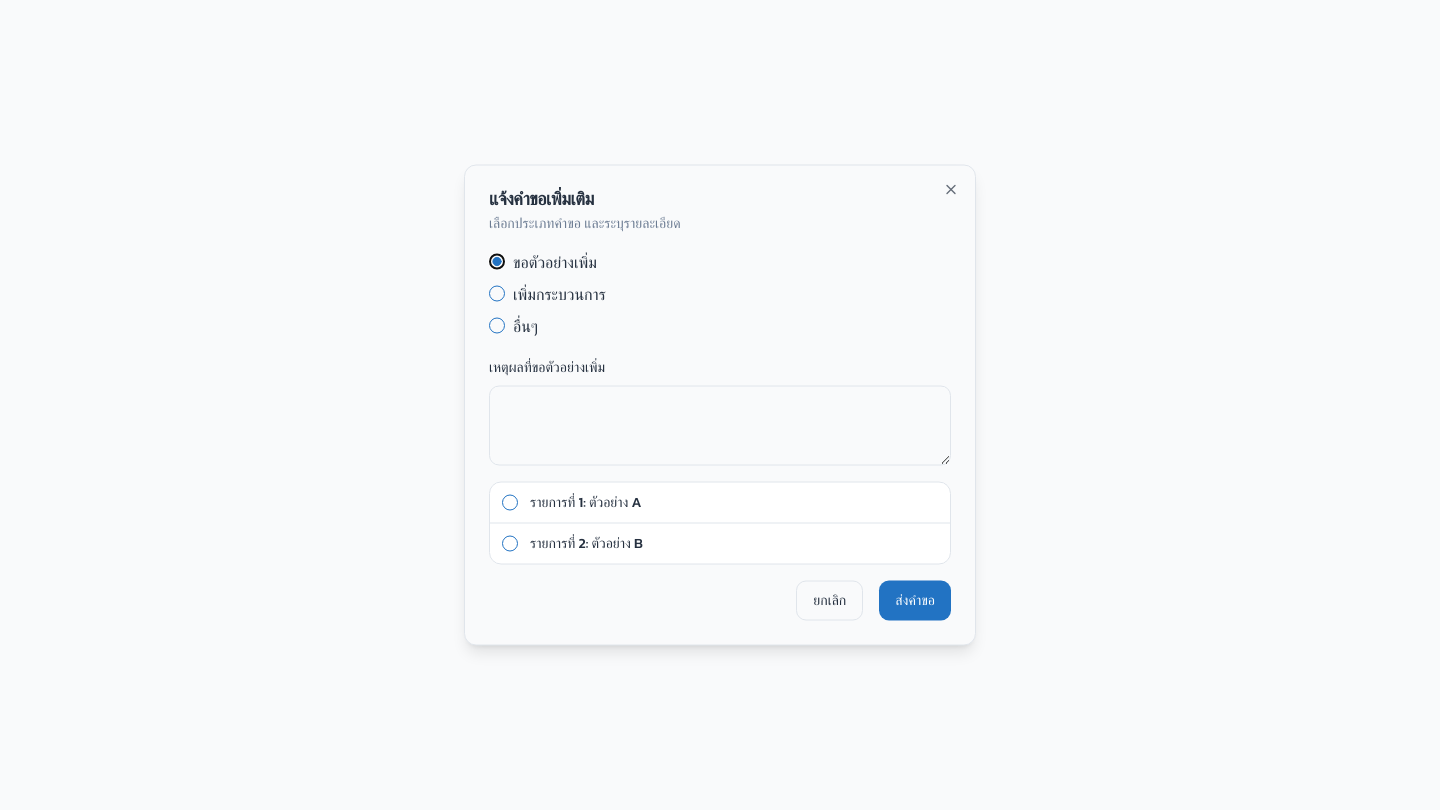
Test: AdditionalSampleRequestDialog › requires a reason, selection and valid weight before posting
The width and height of the screenshot is (1440, 810).
Click the button "ส่งคำขอ" at (915, 600), box top-left (879, 580), bottom-right (951, 620)
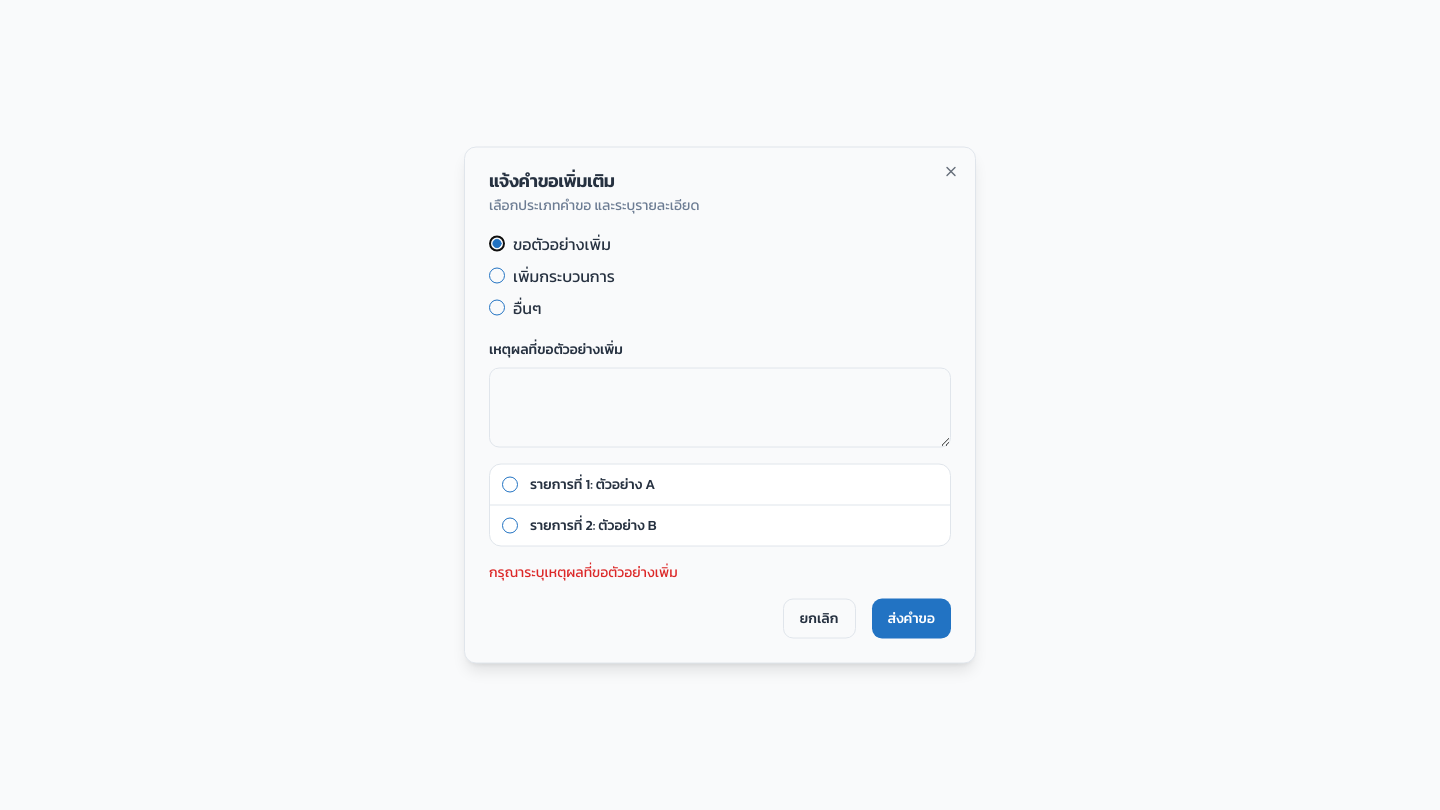
Check: the message shows "กรุณาระบุเหตุผล", box top-left (489, 562), bottom-right (678, 582)
Type " ค่าสูงกว่าเกณฑ์ " into the text box labelled "เหตุผลที่ขอตัวอย่างเพิ่ม" at (720, 408), box top-left (489, 368), bottom-right (951, 448)
Click the button "ส่งคำขอ" at (911, 618), box top-left (872, 598), bottom-right (951, 638)
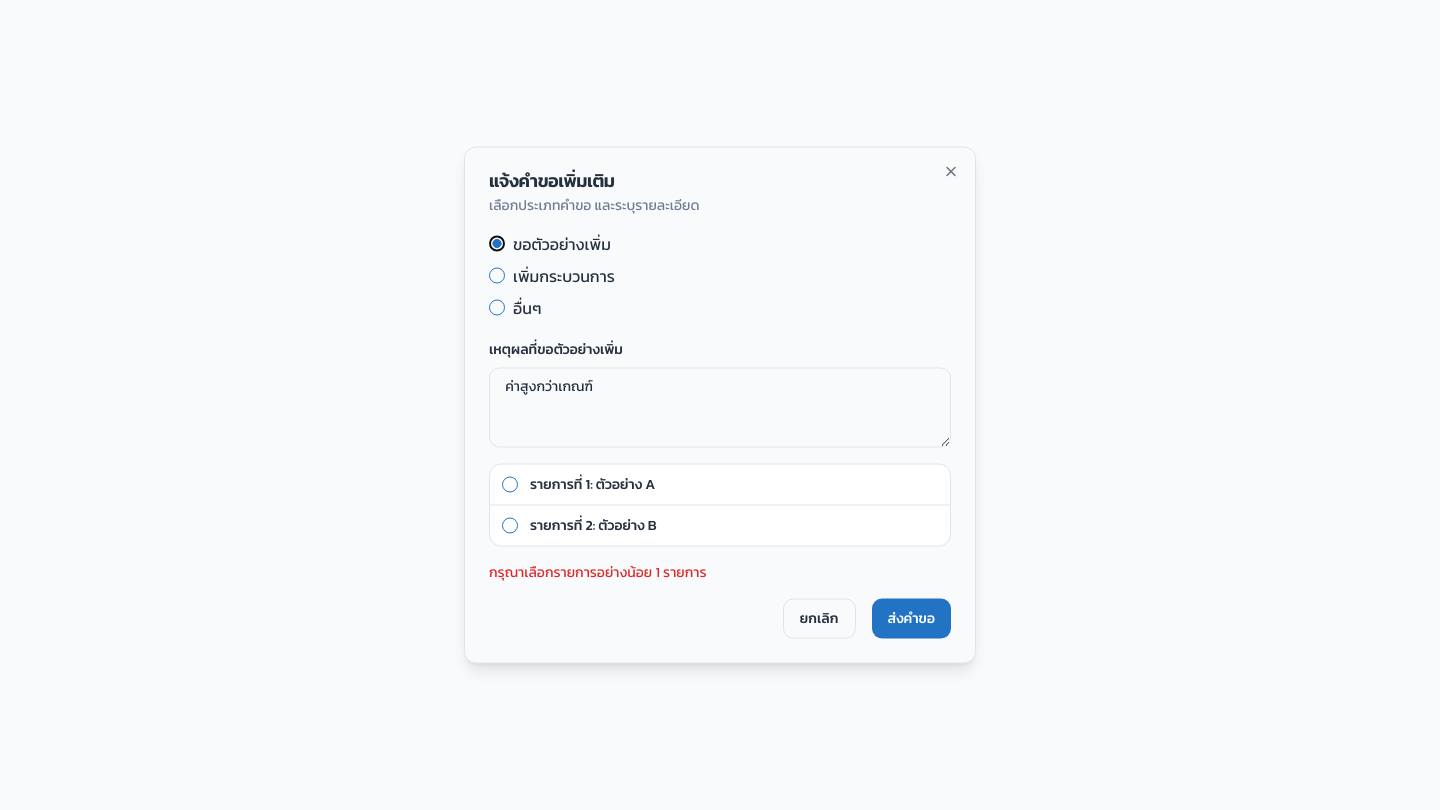
Check: the message shows "เลือกรายการ", box top-left (489, 562), bottom-right (706, 582)
Click the checkbox named "ตัวอย่าง A" in the row of "ตัวอย่าง A" at (510, 484), box top-left (502, 476), bottom-right (518, 492)
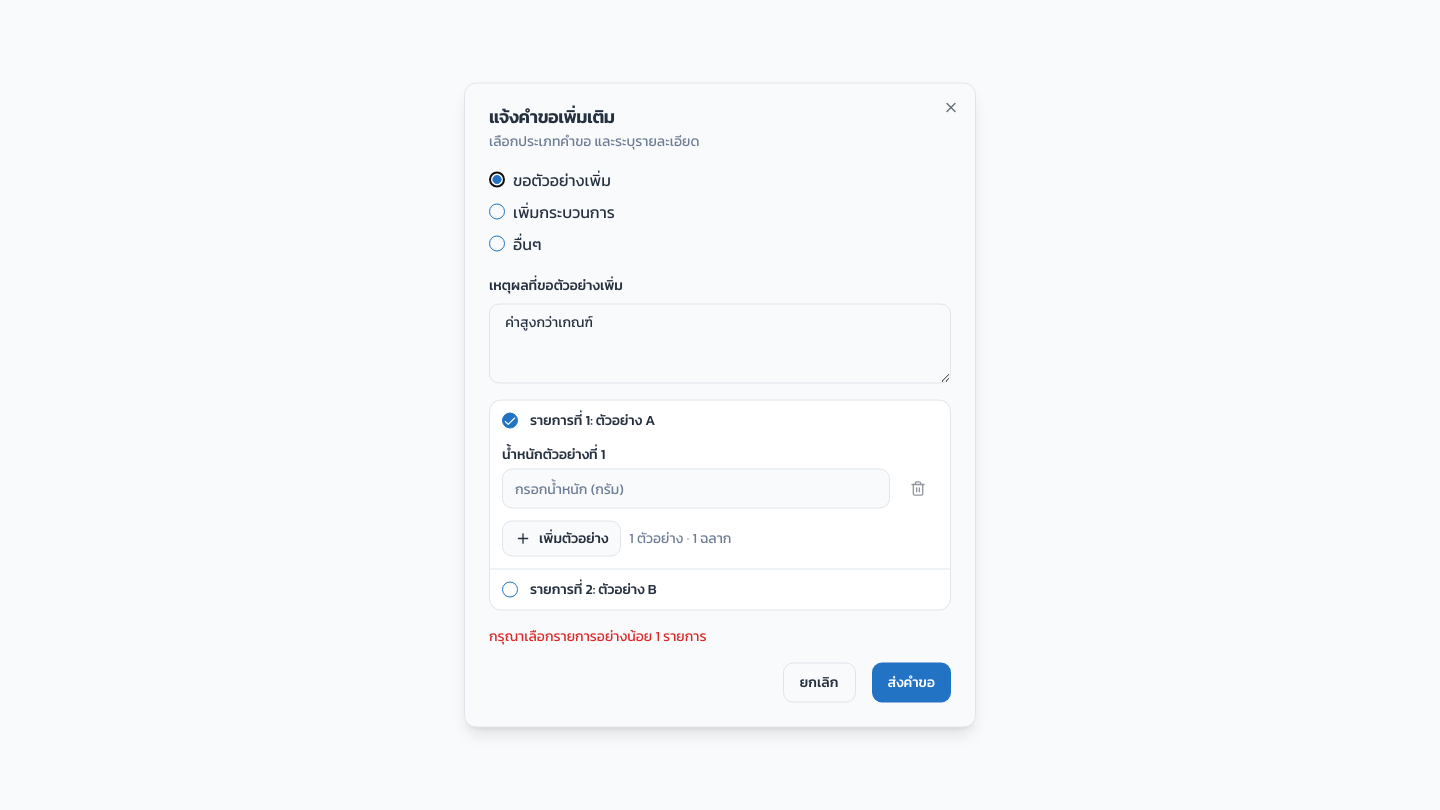
Type "100" into the number field named "น้ำหนักตัวอย่างที่ 1 รายการที่ 1" at (696, 488), box top-left (502, 468), bottom-right (890, 508)
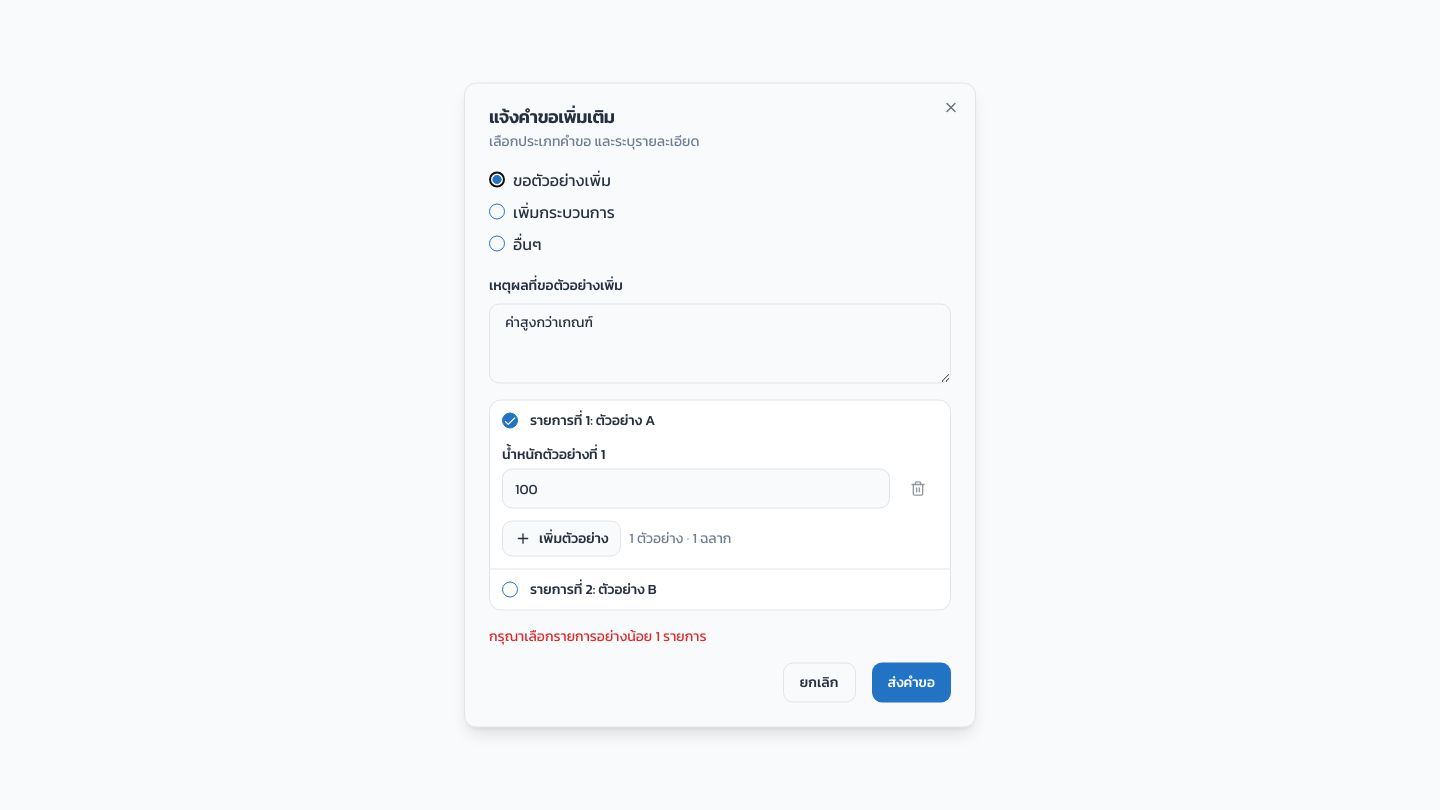
Clear the number field named "น้ำหนักตัวอย่างที่ 1 รายการที่ 1" at (696, 488), box top-left (502, 468), bottom-right (890, 508)
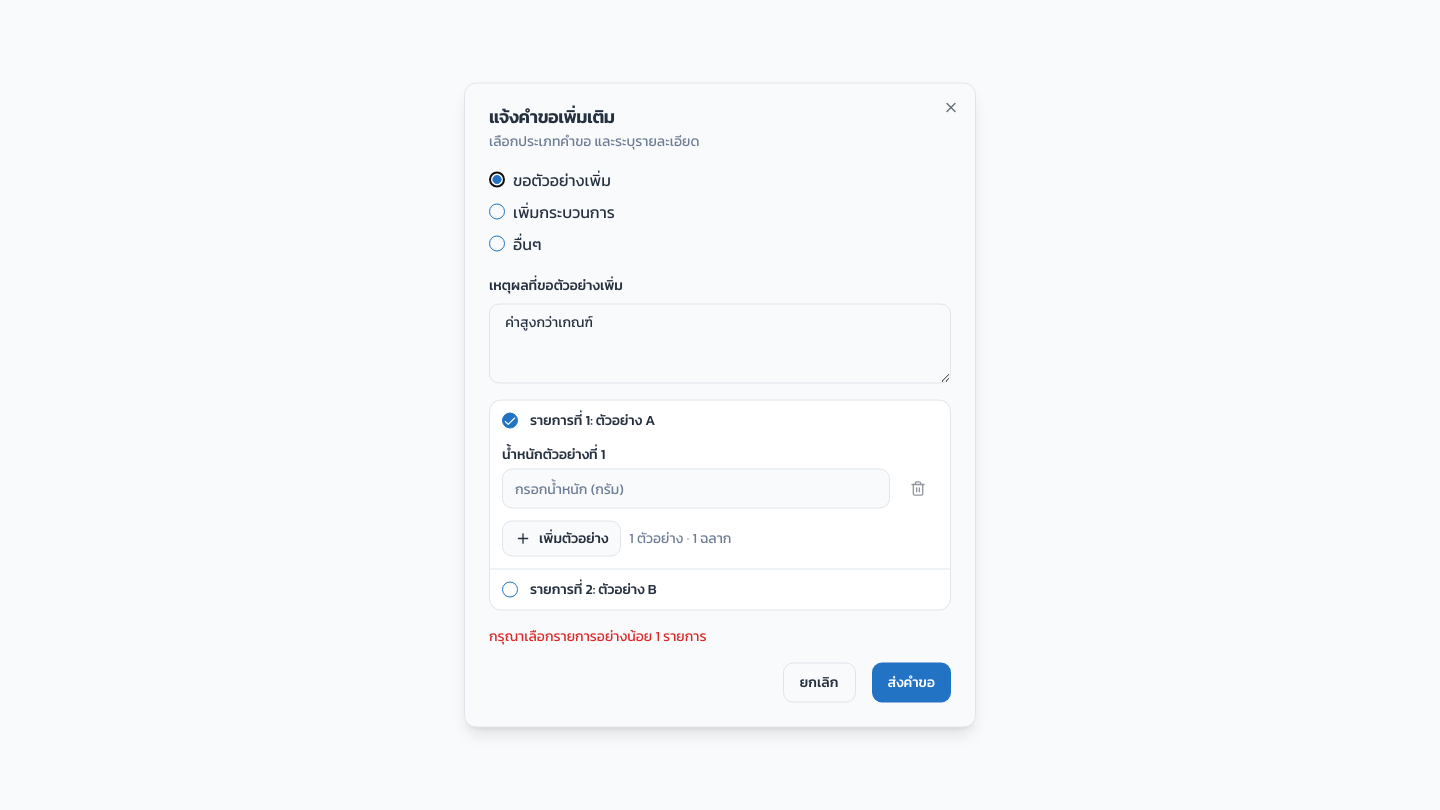
Click the button "ส่งคำขอ" at (911, 682), box top-left (872, 662), bottom-right (951, 702)
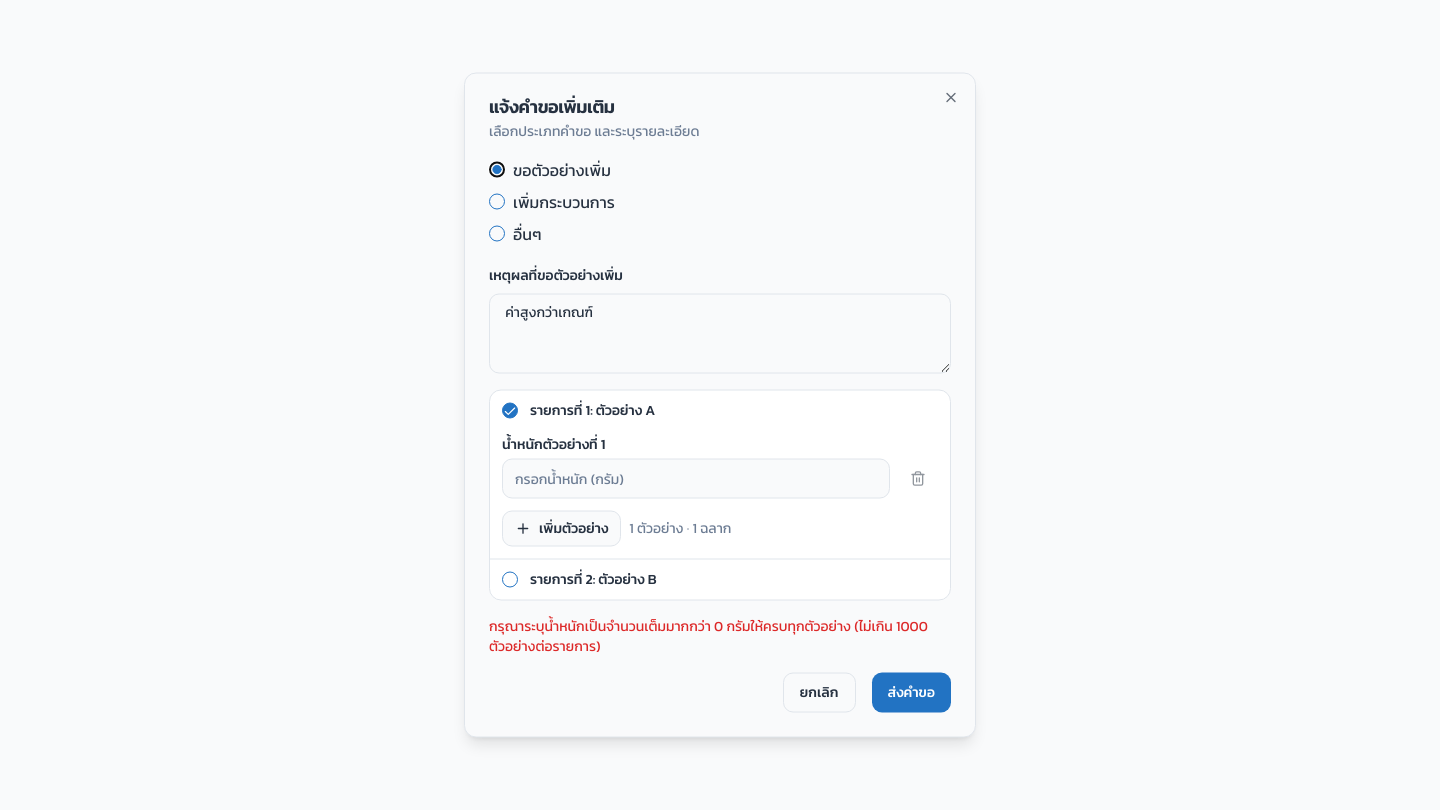
Check: the message shows "ระบุน้ำหนัก", box top-left (489, 616), bottom-right (928, 656)
